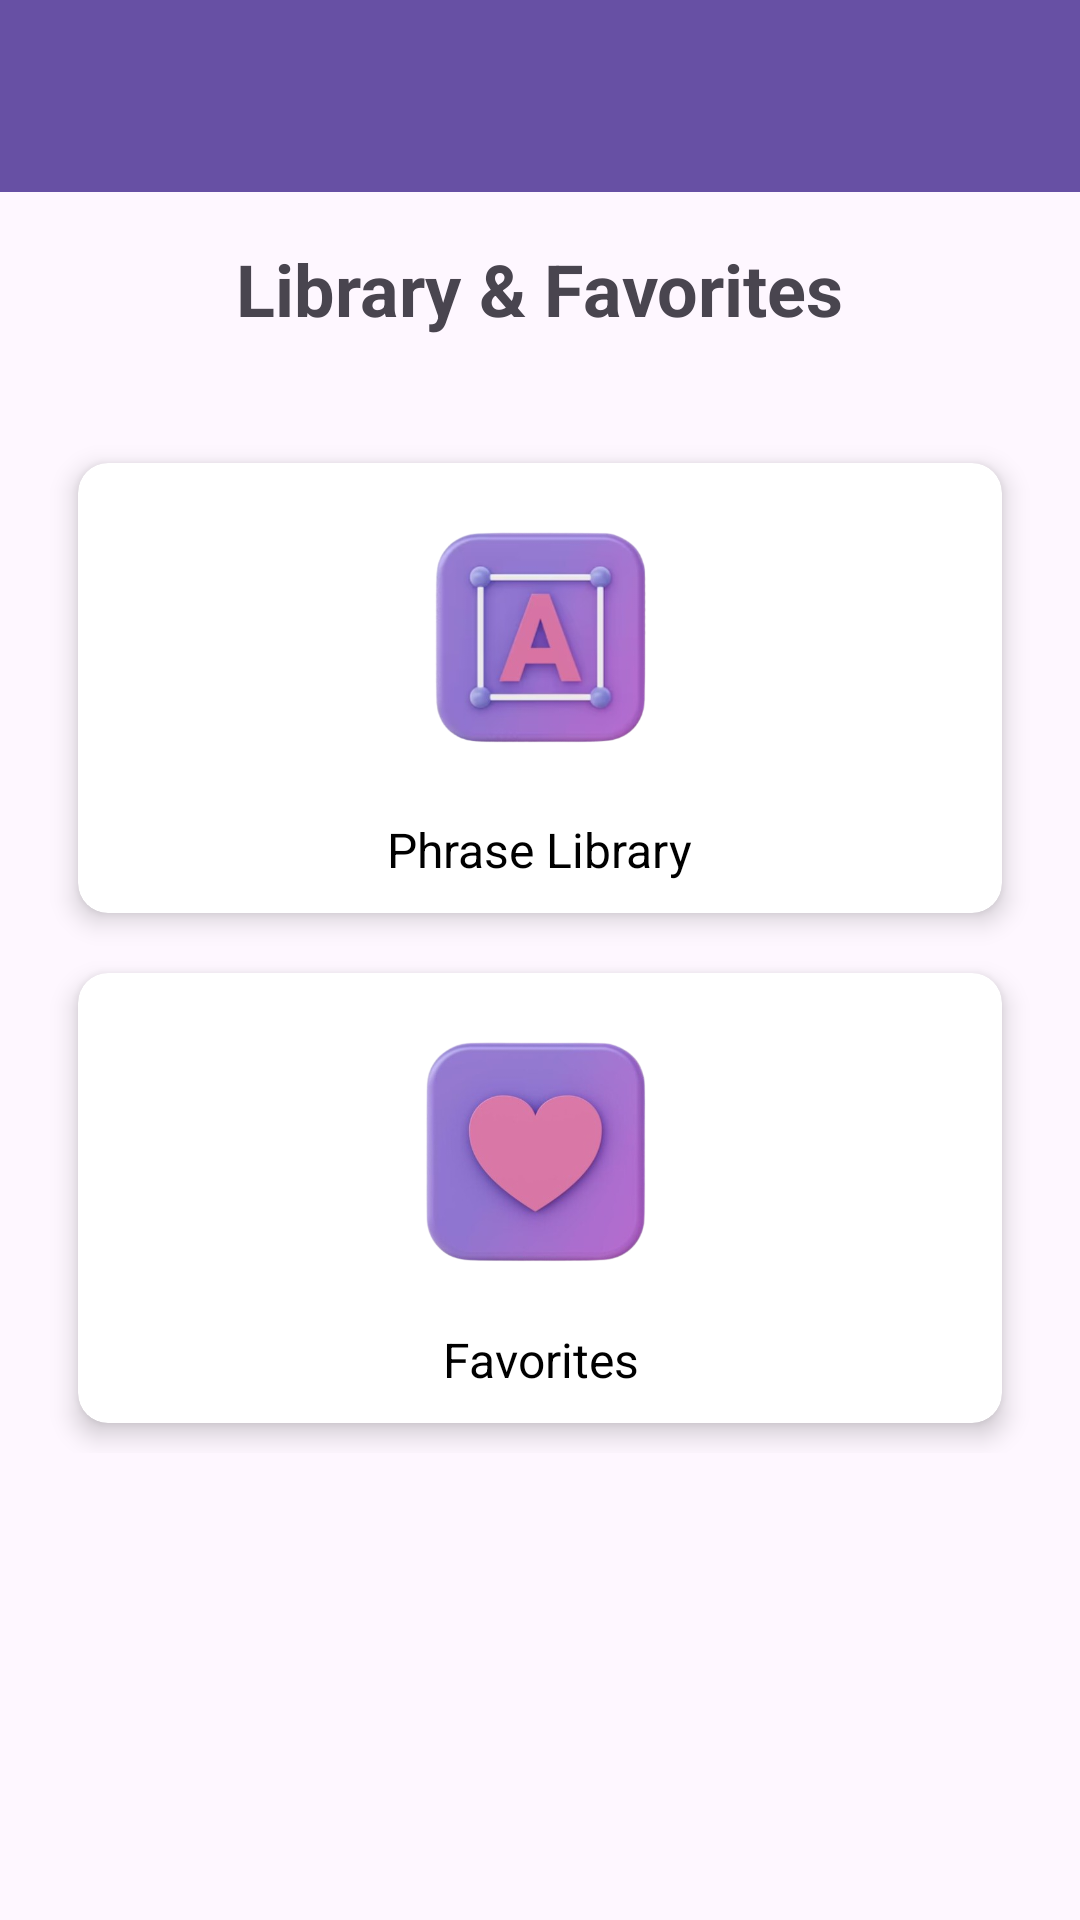

Icon bounding boxes for this 1080w x 1920h phone screenshot, format {"left": x1, "top": y1, "right": x2, "bottom": y2}:
heart: {"left": 426, "top": 1043, "right": 645, "bottom": 1261}
